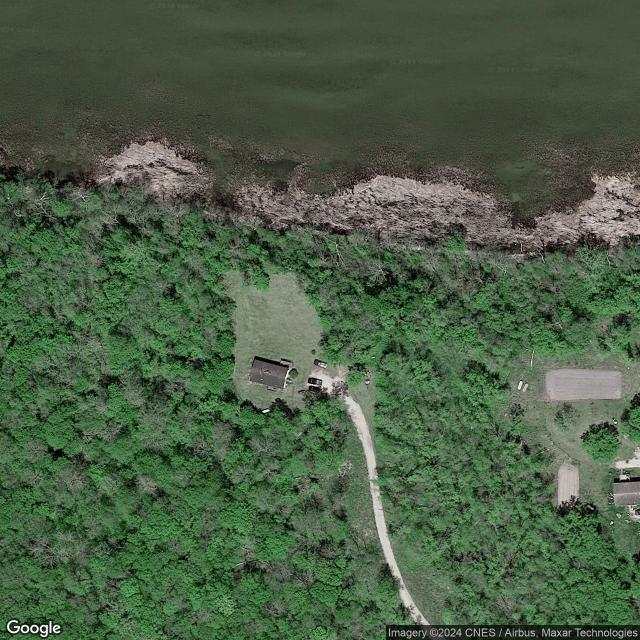Propane: (587, 504, 595, 511), (262, 408, 271, 414)
